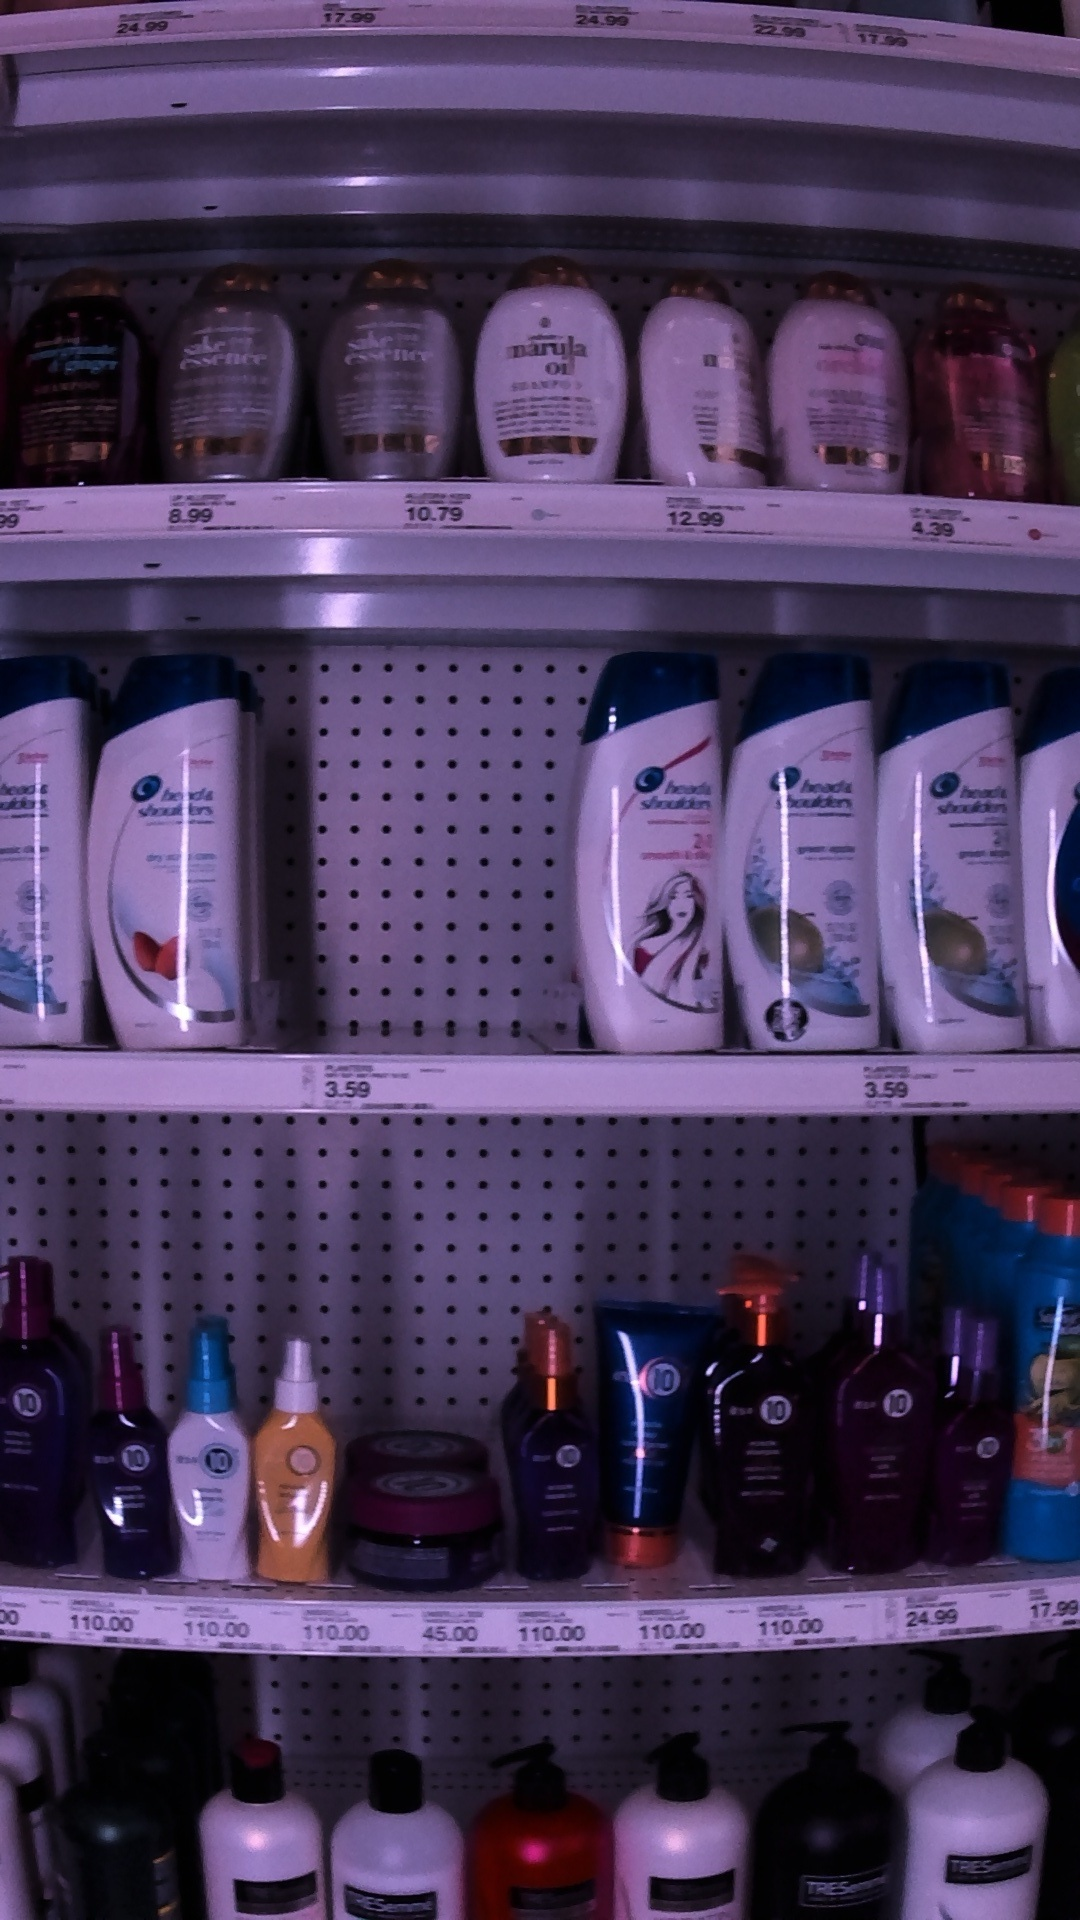ptag: (309, 1054, 451, 1122), (851, 1055, 992, 1120), (291, 1596, 411, 1669), (655, 483, 789, 549), (893, 487, 1021, 555), (889, 1580, 1000, 1658), (636, 1593, 742, 1673), (400, 475, 522, 541), (153, 477, 278, 541), (178, 1589, 282, 1662), (62, 1584, 166, 1655), (516, 1604, 628, 1668), (758, 1597, 872, 1660), (419, 1602, 512, 1671), (742, 4, 837, 62), (853, 9, 934, 75), (115, 9, 214, 49), (564, 1, 651, 44), (306, 1, 392, 44)
